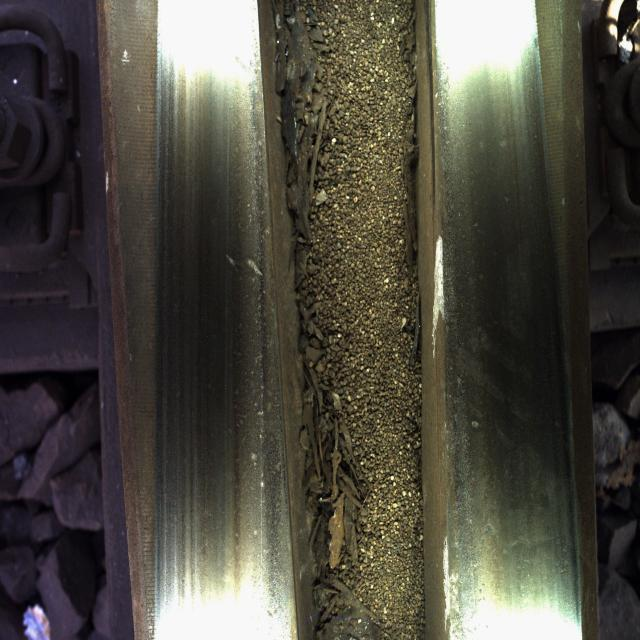normal: (155, 39, 266, 575), (445, 68, 555, 578)
